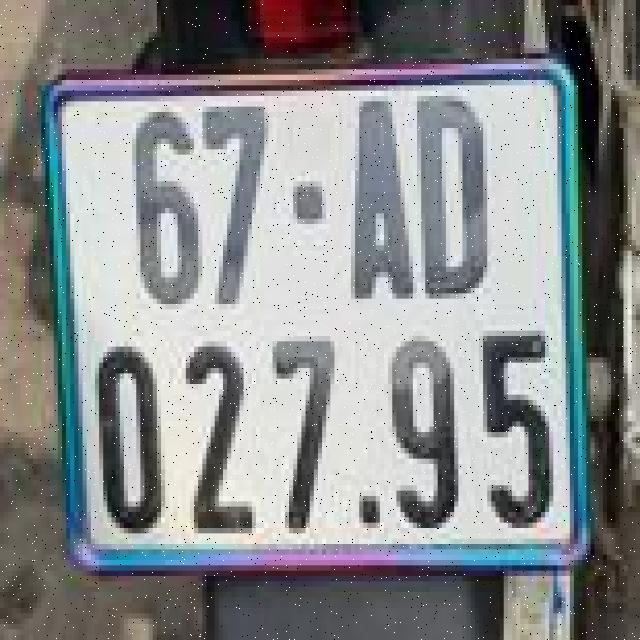0: (95, 344, 169, 536)
2: (182, 341, 264, 539)
5: (477, 328, 559, 536)
6: (128, 112, 202, 315)
7: (274, 336, 340, 539), (204, 101, 270, 304)
9: (386, 334, 460, 526)
A: (347, 99, 417, 312)
D: (419, 91, 494, 304)
